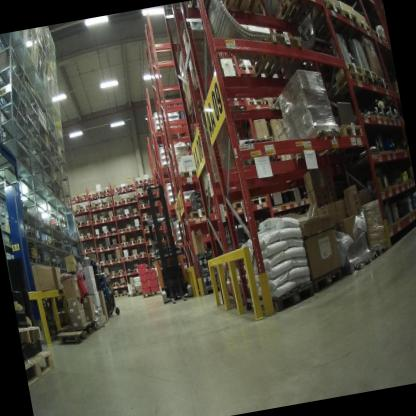forklift: (134, 177, 198, 311)
pallet: (53, 196, 179, 350), (243, 23, 312, 88), (243, 275, 320, 324), (285, 116, 346, 169), (303, 0, 353, 48), (317, 120, 370, 161), (270, 0, 332, 34), (22, 343, 63, 391), (321, 69, 370, 101), (341, 247, 375, 282), (307, 265, 345, 293), (19, 318, 47, 355), (270, 0, 321, 18), (175, 163, 202, 192), (183, 203, 212, 229), (222, 94, 249, 121), (330, 58, 365, 77), (257, 92, 286, 113), (220, 192, 245, 216), (368, 240, 391, 266), (195, 279, 224, 298), (248, 192, 272, 212), (255, 132, 275, 155), (353, 19, 373, 41), (234, 58, 256, 76), (244, 94, 266, 112), (206, 199, 224, 220), (363, 74, 382, 92), (344, 8, 359, 28), (236, 135, 258, 148), (374, 27, 385, 46), (214, 226, 229, 239), (361, 67, 380, 77), (142, 288, 159, 299), (95, 242, 112, 253), (375, 70, 389, 83), (380, 79, 391, 94), (142, 173, 153, 187), (130, 290, 146, 299), (133, 178, 144, 191), (73, 192, 83, 205), (205, 228, 216, 239), (137, 250, 149, 260), (136, 201, 148, 211), (101, 187, 113, 197), (111, 196, 123, 206), (120, 193, 130, 205), (125, 183, 135, 194), (87, 191, 97, 202), (122, 208, 132, 219), (84, 217, 94, 228), (118, 183, 127, 195), (93, 229, 103, 239), (128, 236, 137, 247), (95, 189, 103, 201), (102, 200, 114, 208), (108, 271, 118, 280), (129, 252, 139, 261), (122, 253, 131, 263), (113, 254, 123, 263), (146, 249, 156, 258), (102, 229, 111, 239), (79, 231, 87, 242), (81, 192, 89, 203), (113, 211, 124, 219), (98, 215, 109, 223), (145, 237, 154, 246), (120, 240, 129, 249), (136, 188, 145, 197), (116, 270, 126, 278), (111, 241, 121, 249), (116, 226, 126, 234), (111, 184, 119, 194), (80, 204, 90, 212), (88, 203, 98, 211), (91, 216, 99, 226), (132, 223, 143, 230), (107, 215, 118, 222), (70, 206, 77, 217), (113, 292, 122, 300), (135, 236, 144, 244), (81, 246, 90, 254), (85, 231, 93, 240), (109, 227, 117, 236), (130, 210, 140, 217), (89, 246, 97, 254), (125, 224, 133, 232), (77, 219, 85, 227), (120, 291, 129, 298), (111, 282, 120, 289), (124, 268, 133, 275), (149, 211, 158, 218), (107, 258, 115, 265), (100, 259, 108, 266), (141, 213, 149, 220), (156, 289, 162, 297), (119, 281, 127, 287), (76, 205, 82, 212), (143, 227, 151, 232), (133, 268, 139, 274), (96, 203, 103, 208)
small_load_carrier: (71, 269, 94, 303), (149, 283, 163, 293), (136, 261, 148, 272), (147, 266, 158, 278), (140, 284, 151, 294), (137, 270, 148, 279), (147, 276, 159, 284), (140, 278, 149, 288)
